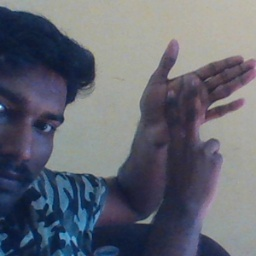N: (130, 37, 256, 179)
